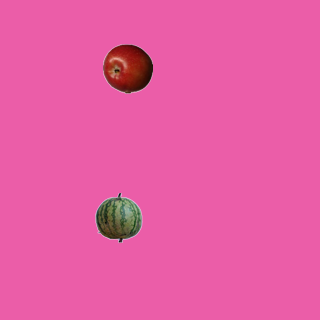Apple Braeburn: (102, 43, 152, 93)
Watermelon: (93, 192, 143, 242)
